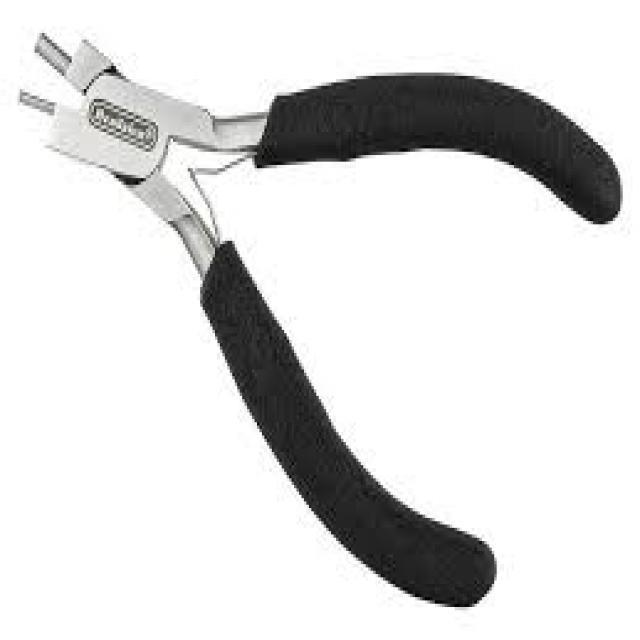pliers: (16, 28, 630, 616)
